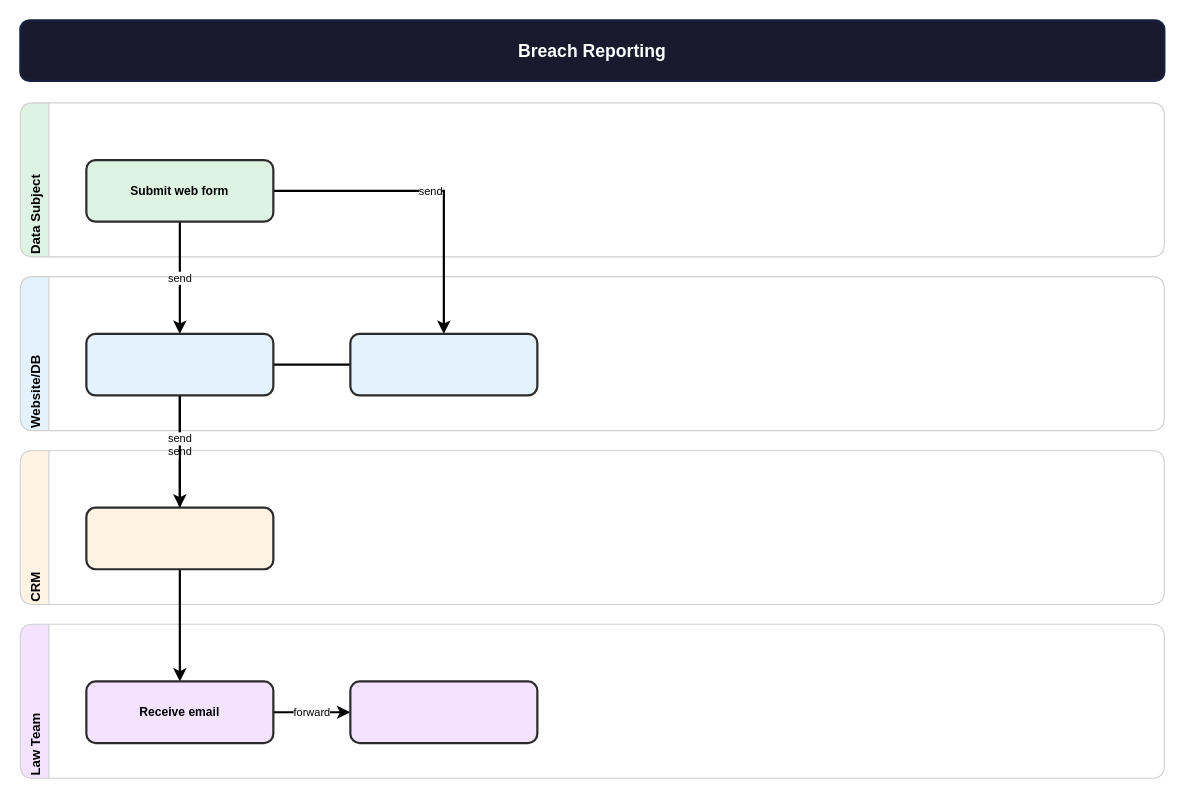
Image size: 1184x798. Some labels were removed from this diagram. Each missing label, with the centre of its shape:
"Forward to IT" goes at point (443, 712).
"Push API data" goes at point (179, 538).
"Send confirmation email" goes at point (443, 364).
"Store data" goes at point (179, 364).
